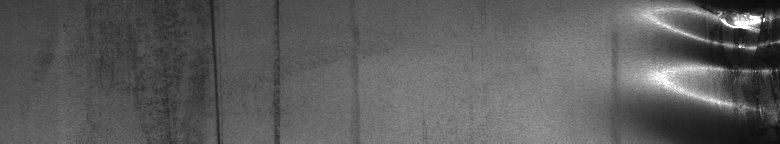ke: (653, 4, 760, 116)
